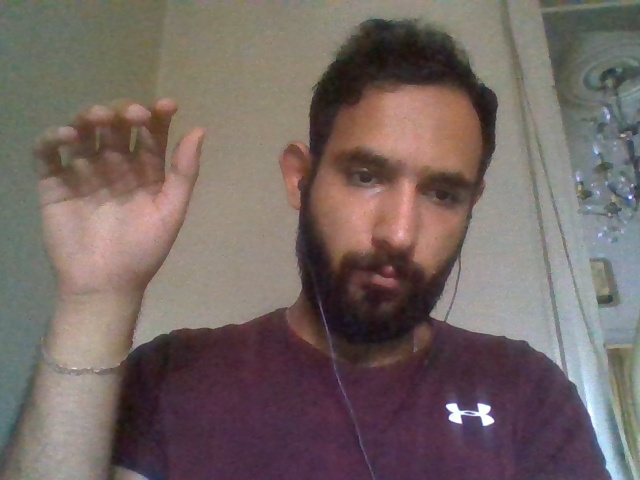Snake: (10, 77, 215, 480)
